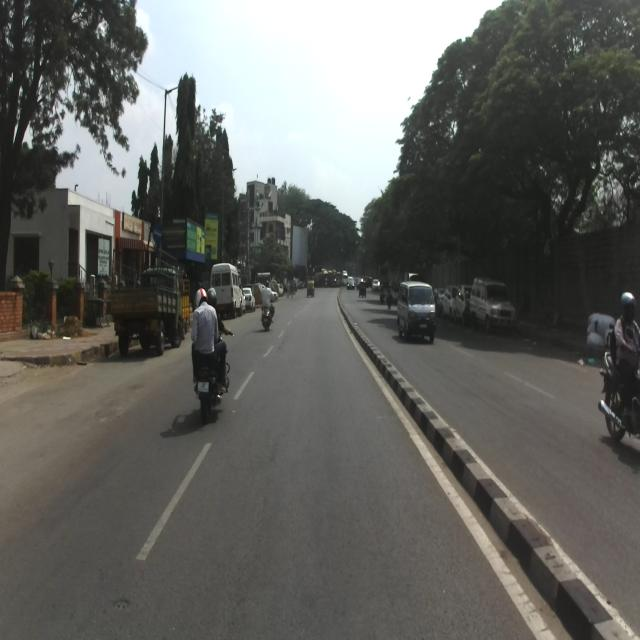motorcycle ahead at: (189, 346, 234, 422)
truck ahead at: (114, 264, 189, 362)
